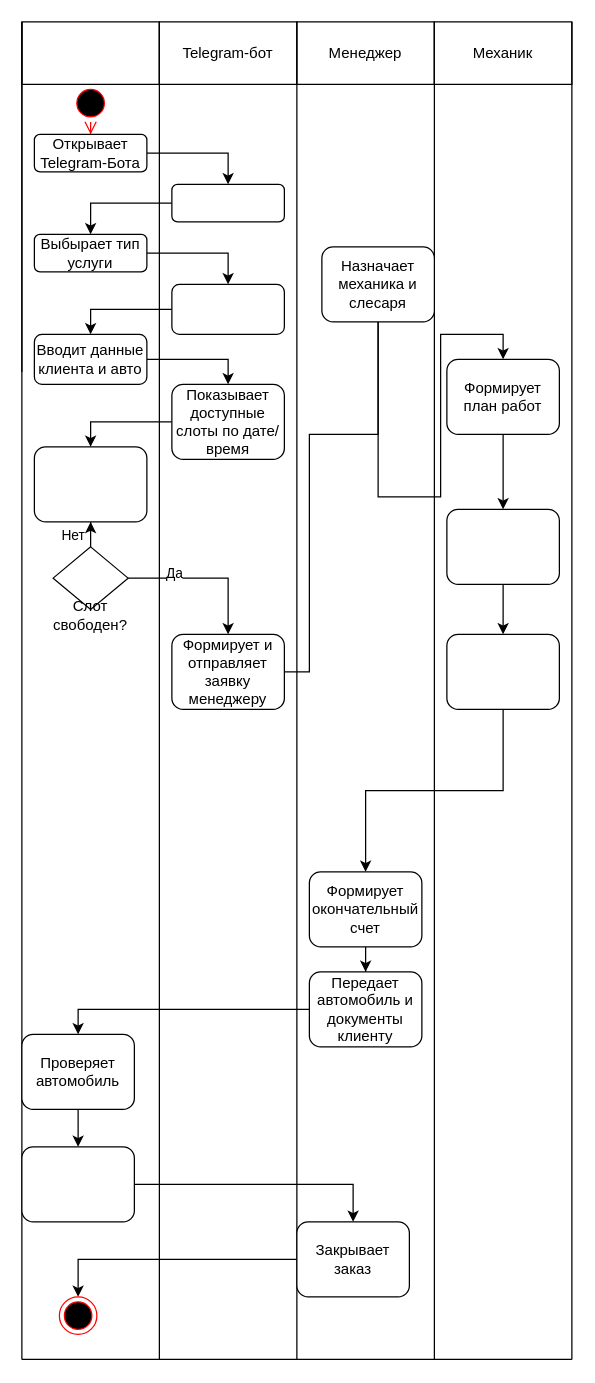
Image size: 595x1383. Some labels were removed from this diagram. The centre of each missing label's shape, as x and y in pixels:
"Выбирает дату и время" belongs at pixel 90 484.
"Выполняет диагностику" belongs at pixel 502 546.
"Выполняет ремонт" belongs at pixel 502 671.
"Запрашивает данные клиента и авто" belongs at pixel 227 308.
"Клиент" belongs at pixel 90 52.
"Оплачивает заказ" belongs at pixel 77 1184.
"Показывает меню услуг" belongs at pixel 227 202.
